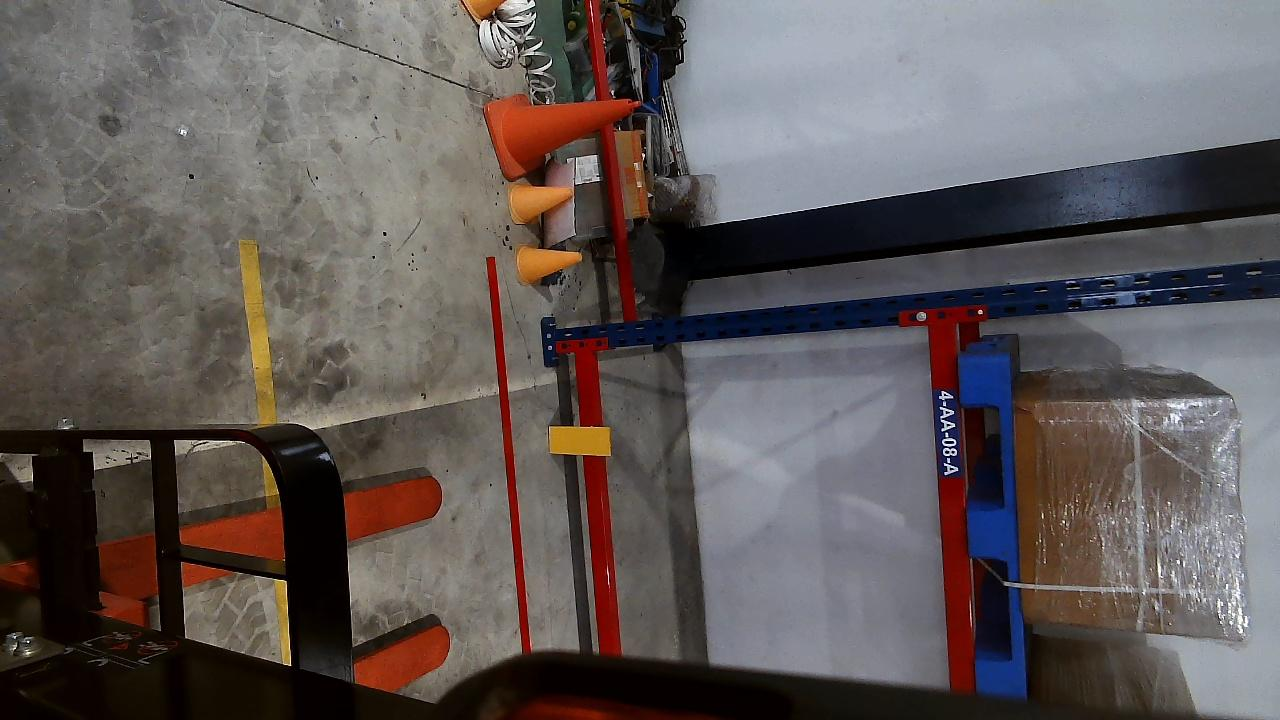h_rack: (926, 325, 975, 691), (575, 361, 621, 655)
orange_strip: (548, 425, 610, 456)
red_line: (488, 257, 534, 658)
small_pallet: (963, 355, 1025, 692)
yellow_line: (236, 237, 276, 425)
